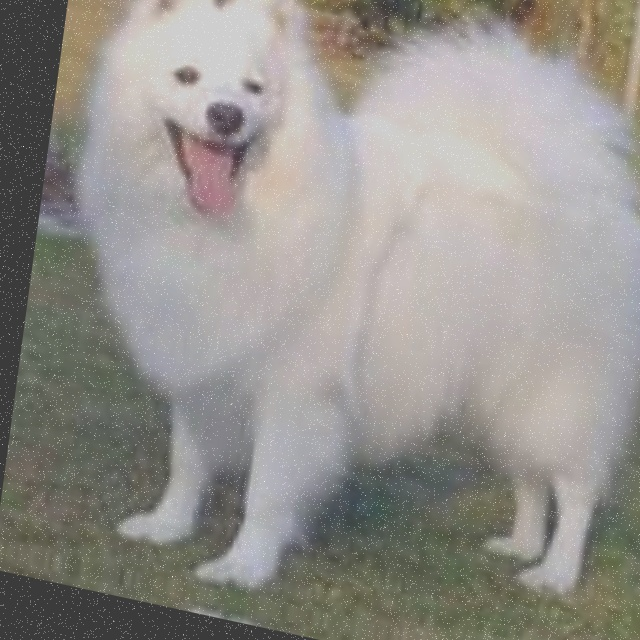dog: (43, 0, 640, 640)
